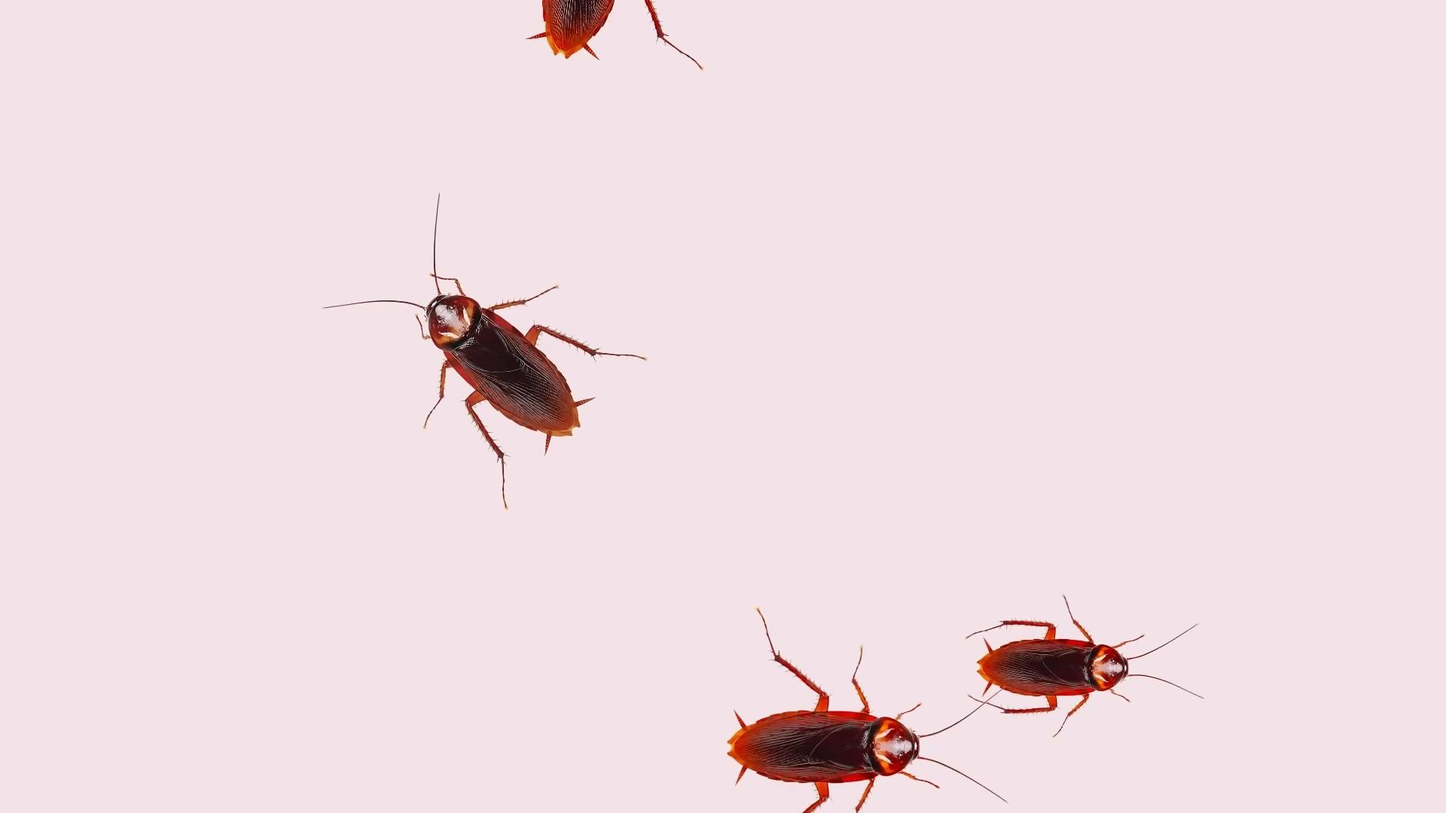cockroach: (388, 254, 616, 465), (706, 691, 947, 813), (968, 610, 1167, 724)
